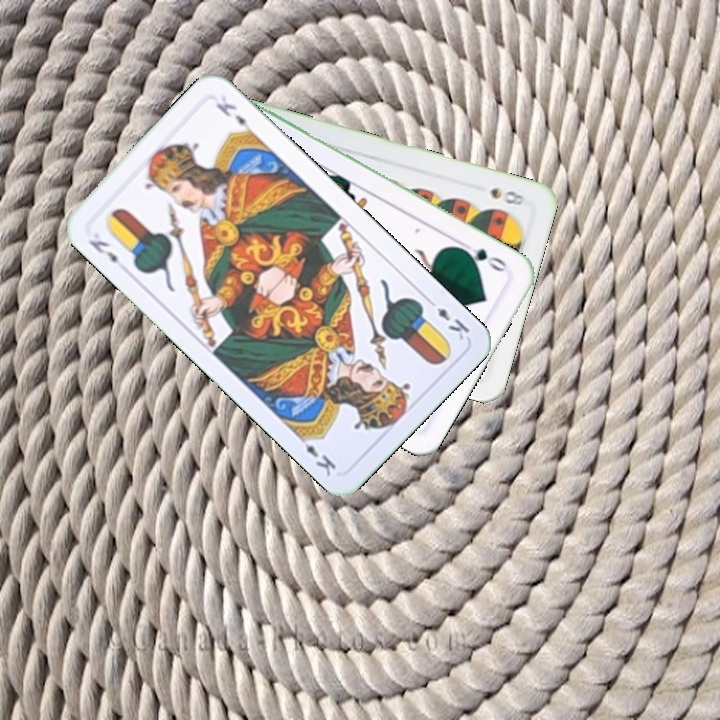EK: (423, 294, 472, 343), (84, 235, 121, 266)
GO: (456, 238, 510, 275)
S8: (486, 183, 527, 208)
